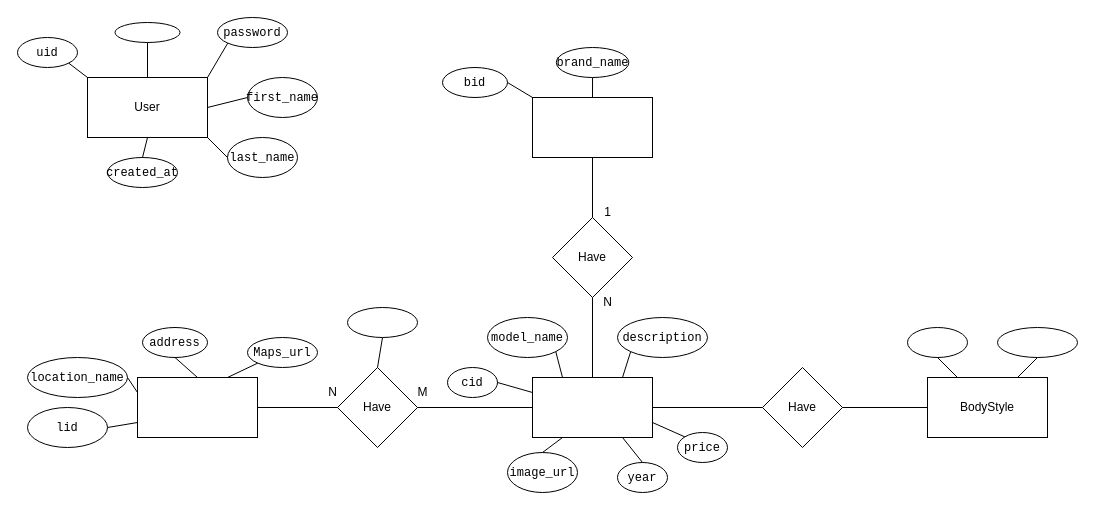
Image size: 1095x510. Some labels were removed from this diagram. The shapes that lost their labels are listed below. From the top down, each one's centre as x and y in pixels, then its label:
the point at 147,32: email
the point at 592,127: Brand
the point at 382,322: amount
the point at 937,342: bsid
the point at 1037,342: style_name
the point at 197,407: Location
the point at 592,407: Car
